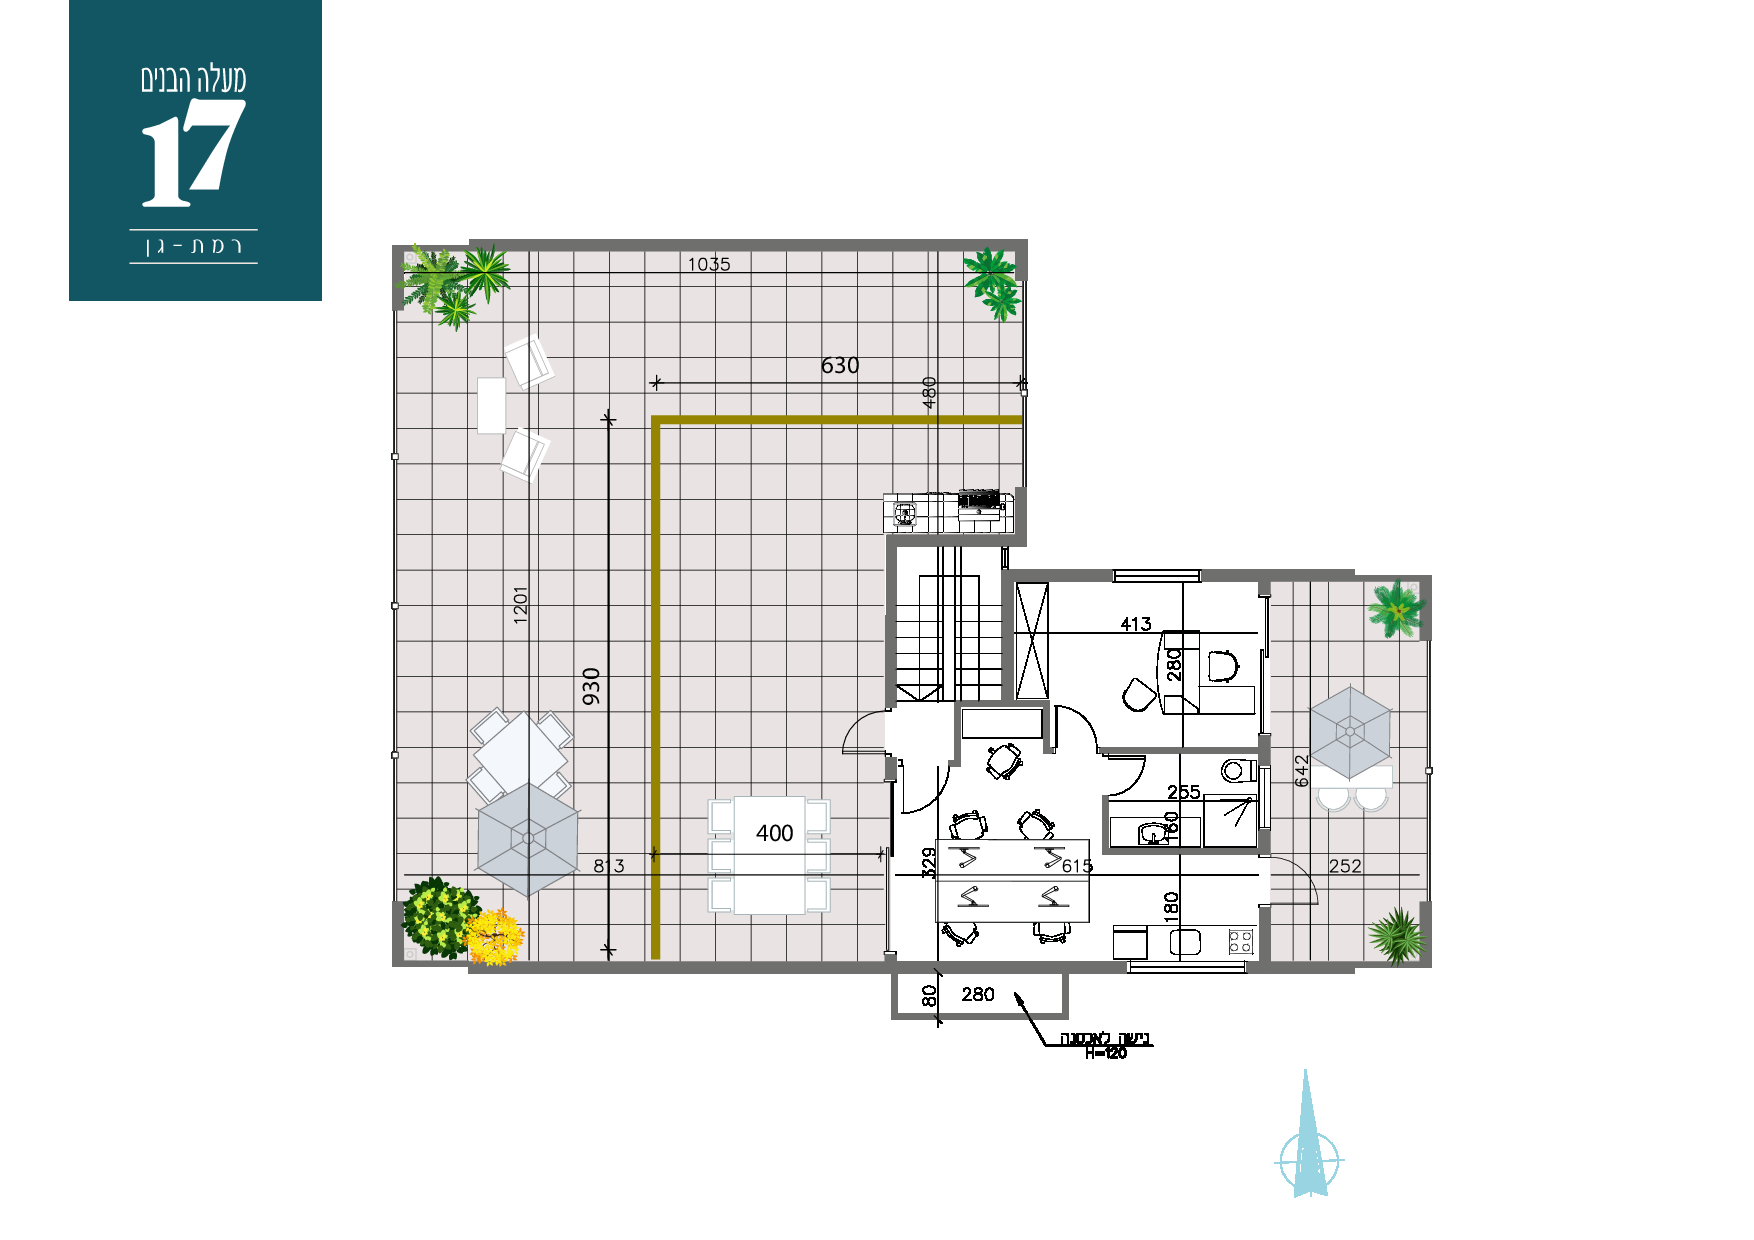door: (1047, 694, 1103, 743), (896, 772, 953, 816), (824, 713, 880, 756), (1110, 752, 1161, 796)
wall: (514, 960, 1103, 976), (511, 238, 1015, 251), (884, 534, 898, 701), (1002, 570, 1015, 702), (887, 535, 1019, 548), (1001, 570, 1106, 582)
window: (1125, 960, 1241, 973), (1114, 570, 1198, 584), (1259, 766, 1272, 825)
